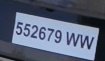2: (31, 24, 38, 38)
5: (16, 21, 23, 35), (24, 23, 31, 37)
6: (39, 26, 46, 40)
7: (47, 27, 54, 40)
9: (55, 29, 62, 43)
w: (80, 35, 94, 50), (66, 32, 79, 47)
